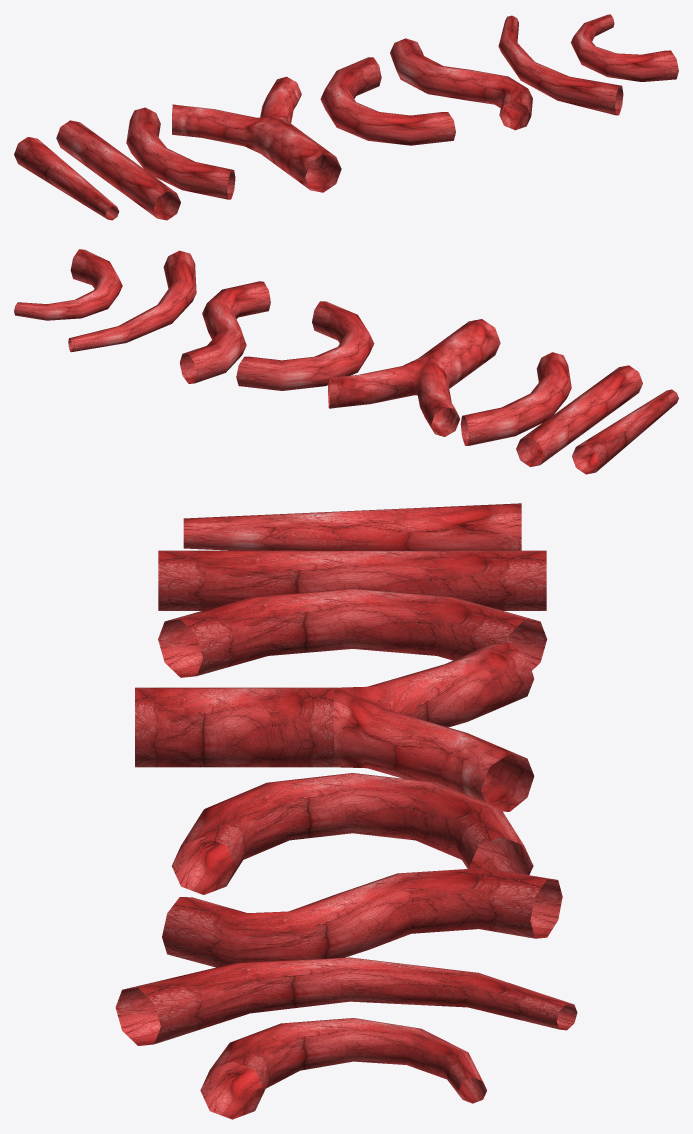
Rendered from bloodVessels.fbx.
3 views of the same model, one above another, from view 1: azimuth 30°, elevation 25°; view 2: azimuth 150°, elevation 25°; view 3: azimuth 270°, elevation 25° (orthographic). The views are drawn at different scales.
Visible parts, largest first — view 1: yBranch, bend90, sShape, straight, bend45, bigToSmall_bend45, bigToSmall_bend90, bigToSmall; view 2: yBranch, bend90, straight, sShape, bend45, bigToSmall_bend45, bigToSmall_bend90, bigToSmall; view 3: yBranch, sShape, bend90, bend45, bigToSmall_bend45, straight, bigToSmall_bend90, bigToSmall.
Part boxes in pixels (x1=…): yBranch: x1=172, y1=76, x2=341, y2=192; bend90: x1=320, y1=57, x2=455, y2=145; sShape: x1=390, y1=38, x2=532, y2=130; straight: x1=56, y1=120, x2=180, y2=220; bend45: x1=126, y1=107, x2=235, y2=199; bigToSmall_bend45: x1=498, y1=15, x2=623, y2=115; bigToSmall_bend90: x1=570, y1=14, x2=678, y2=81; bigToSmall: x1=14, y1=137, x2=119, y2=220; yBranch: x1=328, y1=319, x2=500, y2=436; bend90: x1=236, y1=301, x2=374, y2=390; straight: x1=516, y1=365, x2=642, y2=466; sShape: x1=179, y1=281, x2=270, y2=383; bend45: x1=460, y1=352, x2=571, y2=445; bigToSmall_bend45: x1=68, y1=250, x2=196, y2=352; bigToSmall_bend90: x1=14, y1=249, x2=122, y2=320; bigToSmall: x1=572, y1=389, x2=678, y2=474; yBranch: x1=135, y1=643, x2=534, y2=811; sShape: x1=162, y1=868, x2=562, y2=967; bend90: x1=172, y1=773, x2=533, y2=894; bend45: x1=158, y1=588, x2=547, y2=677; bigToSmall_bend45: x1=115, y1=957, x2=577, y2=1045; straight: x1=158, y1=550, x2=546, y2=610; bigToSmall_bend90: x1=200, y1=1018, x2=486, y2=1119; bigToSmall: x1=183, y1=503, x2=521, y2=550.
Size of the model in its own units: 42.06 by 2.64 by 14.39.
